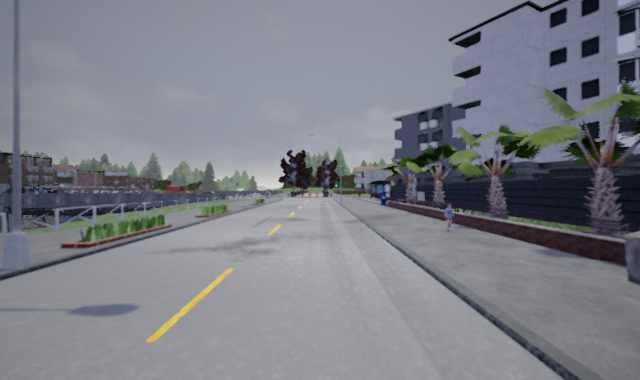pedestrian: (440, 201, 458, 231)
